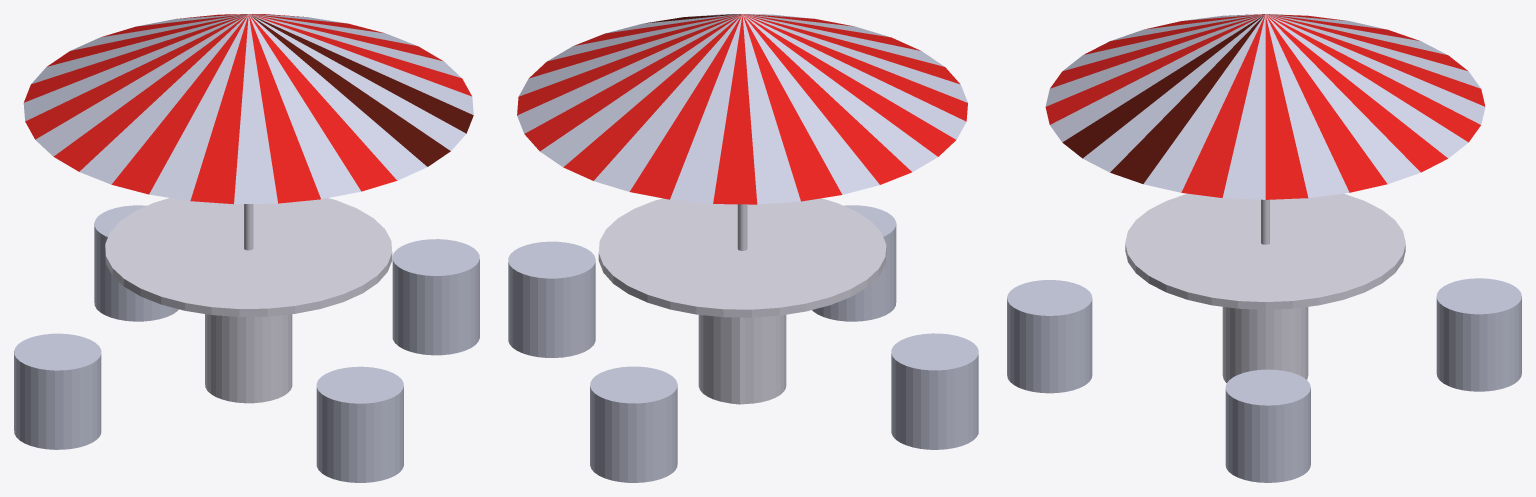
The model's file is TableSet2.fbx.
3 views of the same model, side by side, from view 1: azimuth 30°, elevation 25°; view 2: azimuth 150°, elevation 25°; view 3: azimuth 270°, elevation 25° (orthographic). The views are drawn at different scales.
Visible parts, largest first — view 1: Cylinder; view 2: Cylinder; view 3: Cylinder.
Boxes of the visible parts, bbox=[...] form: Cylinder: bbox=[14, 14, 479, 482]; Cylinder: bbox=[508, 14, 978, 482]; Cylinder: bbox=[1007, 14, 1521, 482].
Bounding box in the file's own units: 203 × 158 × 204.
